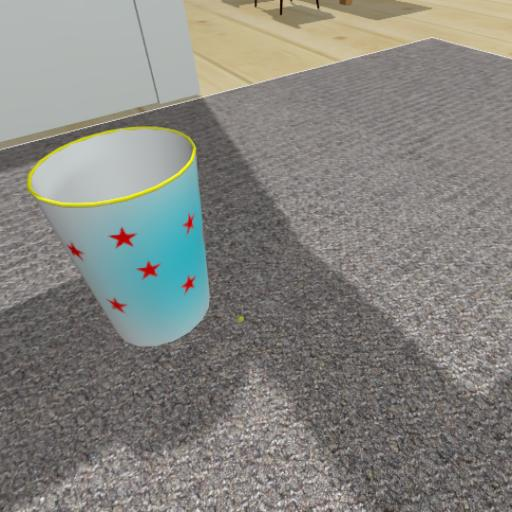Trash: (19, 106, 271, 388)
